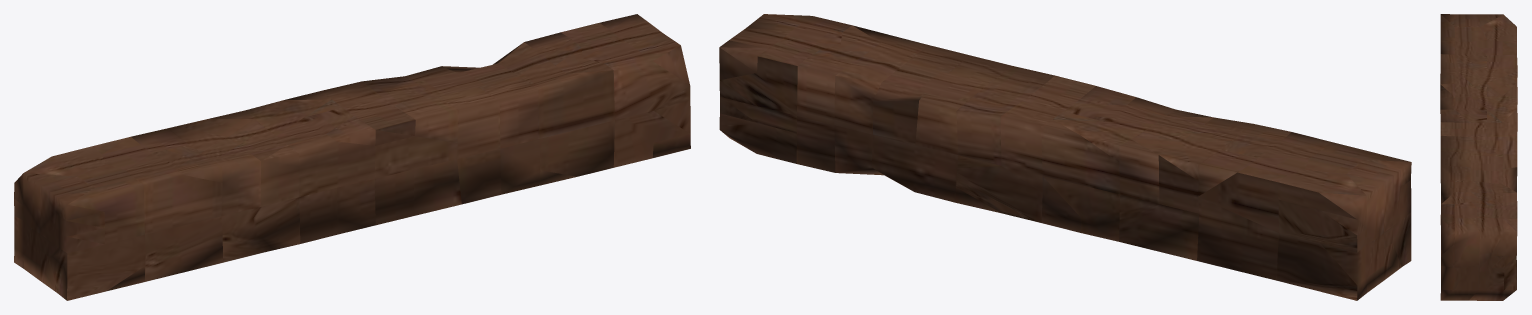
Rendered from beam.lod1.glb.
3 views of the same model, side by side, from view 1: azimuth 30°, elevation 25°; view 2: azimuth 150°, elevation 25°; view 3: azimuth 270°, elevation 25° (orthographic). The views are drawn at different scales.
Bounding box in the file's own units: 2 × 0.3 × 0.3.
1 material, 1 textured.
